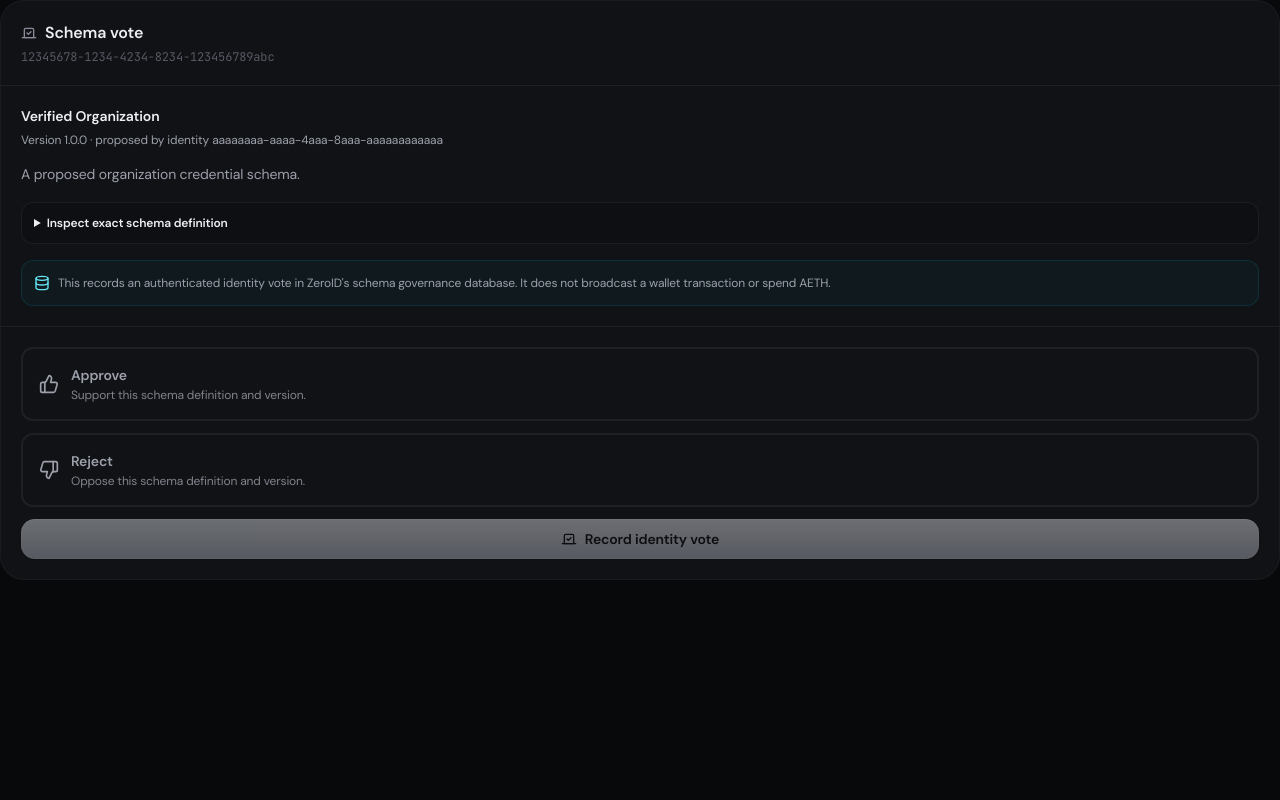
Test: VotingPanel › surfaces backend vote rejection without claiming success
Click the button "Approve Support this schema definition and version.".
click(99, 375)  # box x1=21 y1=347 x2=1259 y2=421
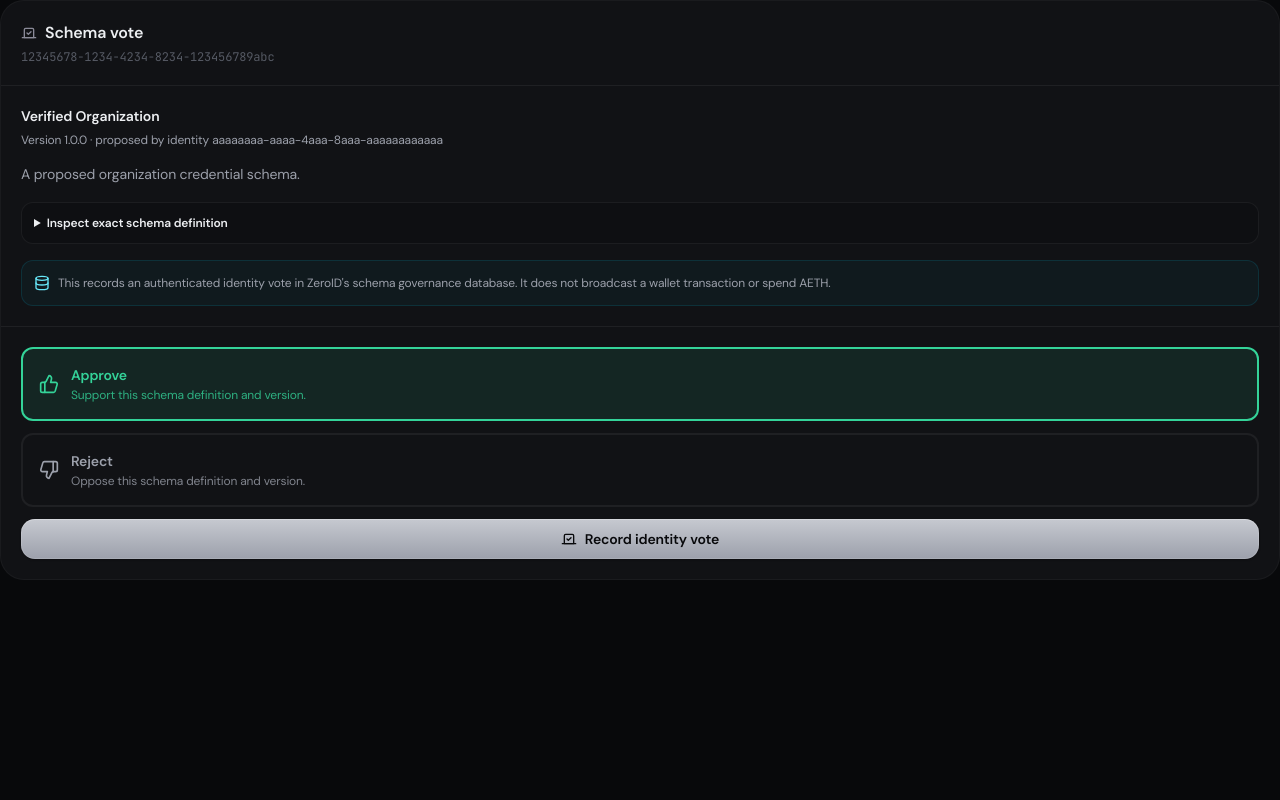
Click the button "Record identity vote".
click(640, 539)  # box x1=21 y1=519 x2=1259 y2=559
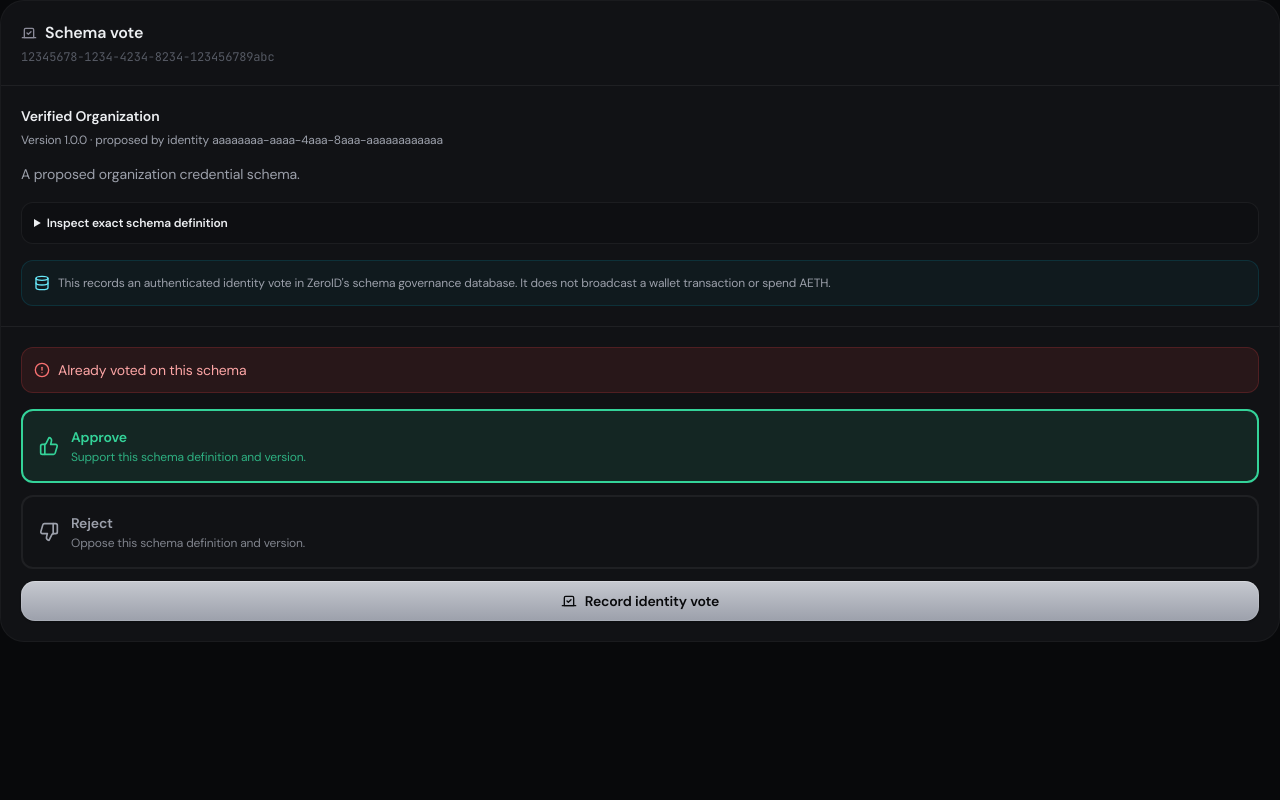
Result: the message reads "Already voted on this schema" at x1=58 y1=361 x2=246 y2=379
